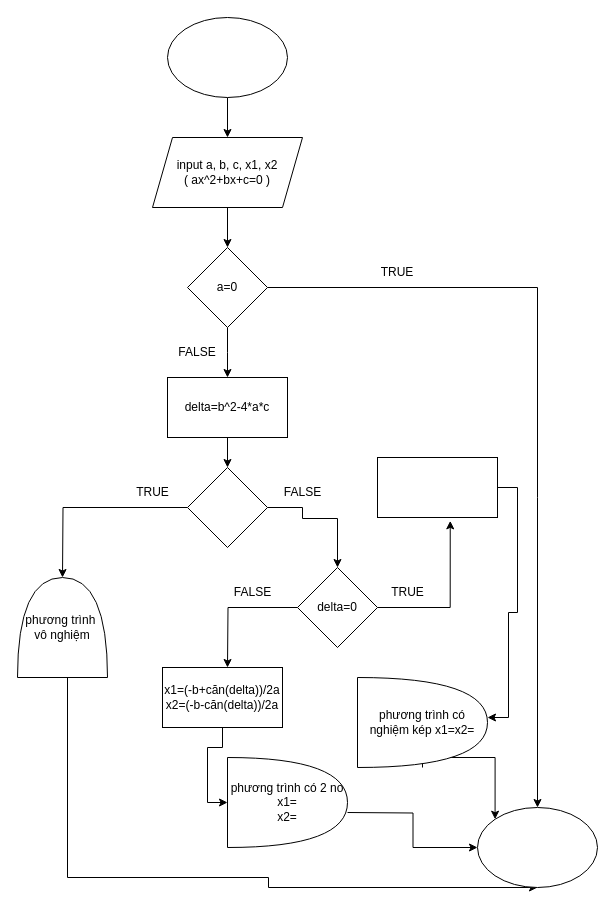
This 615x913 diagram has some shape labels left out. Each missing label, with the centre of its shape:
delta<0: the point at 227,507
END: the point at 537,847
START: the point at 227,57
x1=x2=-b/2a: the point at 437,487
